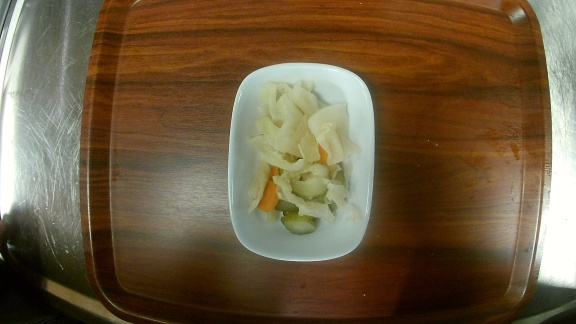tursu: (227, 62, 377, 260)
